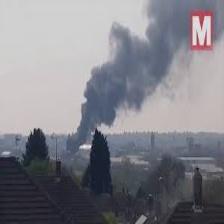smoke: (65, 18, 174, 151)
